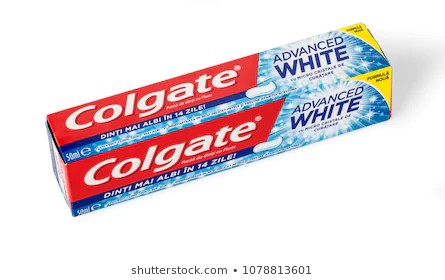colgate-small: (45, 20, 396, 220)
